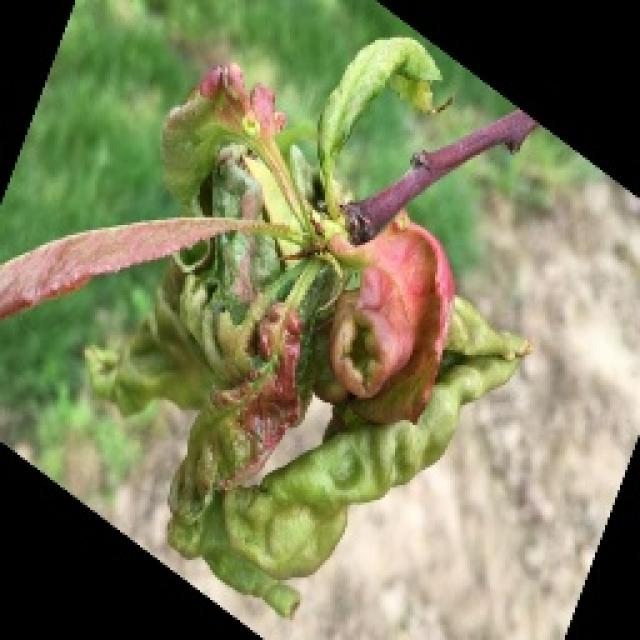peach_leaf_curl: (0, 32, 538, 618)
